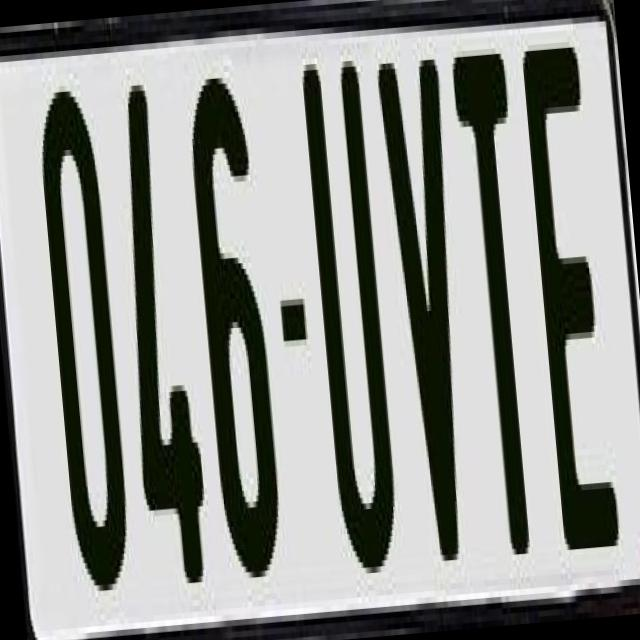0: (31, 77, 139, 604)
4: (104, 70, 212, 580)
6: (185, 75, 294, 614)
E: (520, 40, 628, 550)
T: (452, 52, 552, 556)
U: (296, 53, 404, 570)
V: (370, 48, 478, 558)
